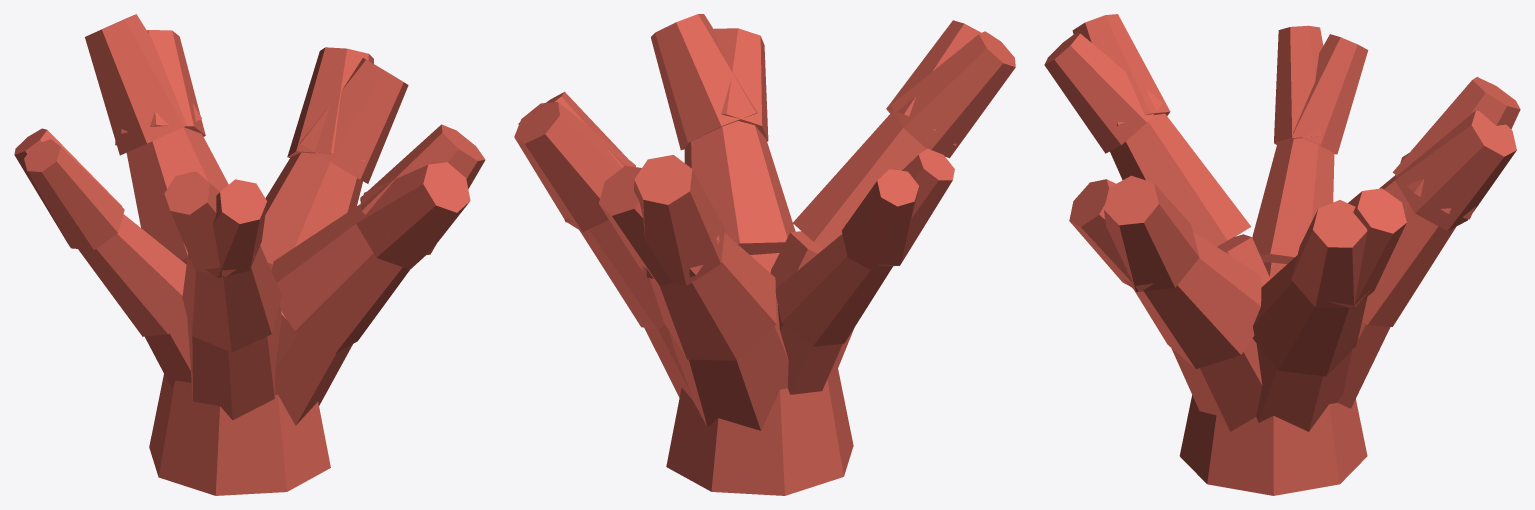
File: coral_001a_branching.glb
3 views of the same model, side by side, from view 1: azimuth 30°, elevation 25°; view 2: azimuth 150°, elevation 25°; view 3: azimuth 270°, elevation 25° (orthographic). The views are drawn at different scales.
Visible parts, largest first — view 1: coral_001a_branching__mesh; view 2: coral_001a_branching__mesh; view 3: coral_001a_branching__mesh.
Boxes of the visible parts, x1,y1,x2,y2 form: coral_001a_branching__mesh: [14, 14, 485, 495]; coral_001a_branching__mesh: [514, 14, 1015, 495]; coral_001a_branching__mesh: [1044, 14, 1520, 495].
Bounding box in the file's own units: 0.9082 × 0.8314 × 0.9478.
